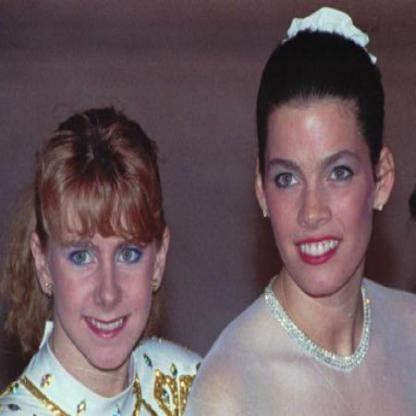face: (267, 53, 377, 296), (53, 143, 156, 371)
